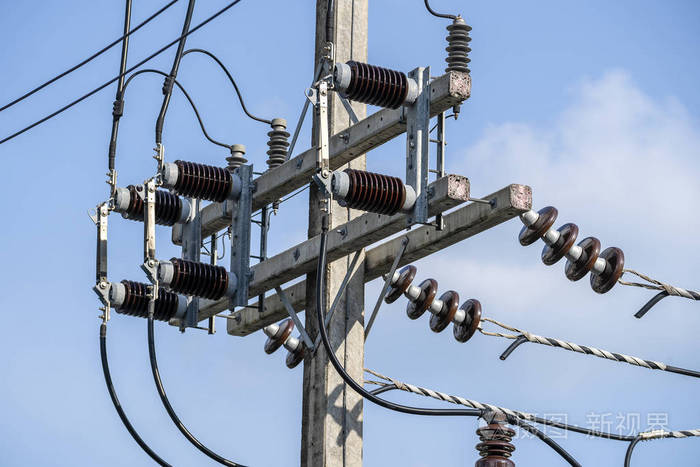insulator: (518, 207, 623, 292), (386, 269, 480, 346), (343, 164, 407, 218), (343, 59, 408, 109), (172, 159, 234, 202), (123, 179, 177, 228), (120, 279, 178, 322), (171, 256, 224, 300), (265, 319, 309, 371), (475, 425, 518, 467), (442, 22, 474, 76), (263, 128, 293, 169)
